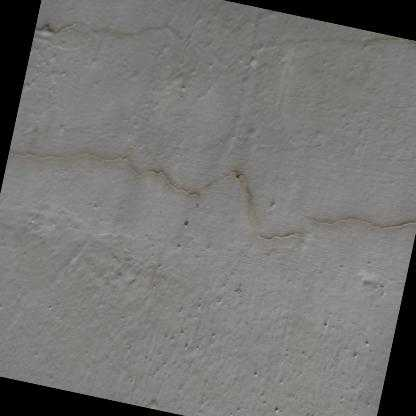crack: (10, 146, 189, 197), (204, 168, 293, 242), (313, 213, 413, 230), (36, 19, 70, 39)
